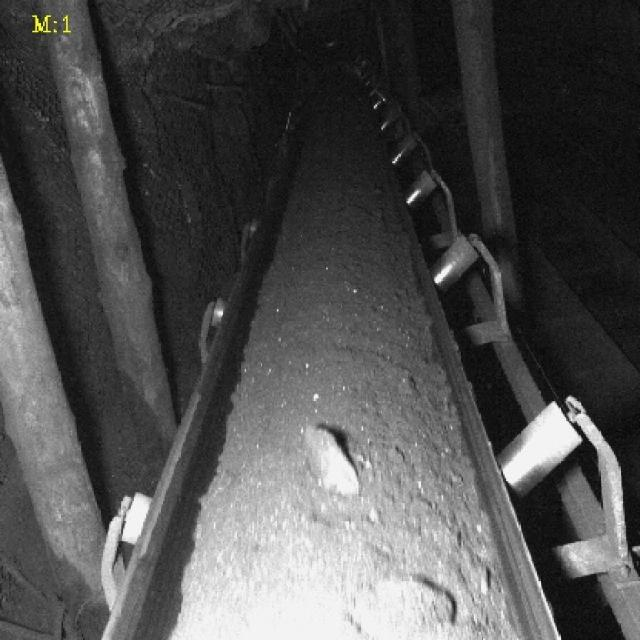large_sized_coal: (356, 574, 456, 640), (300, 426, 362, 497)
